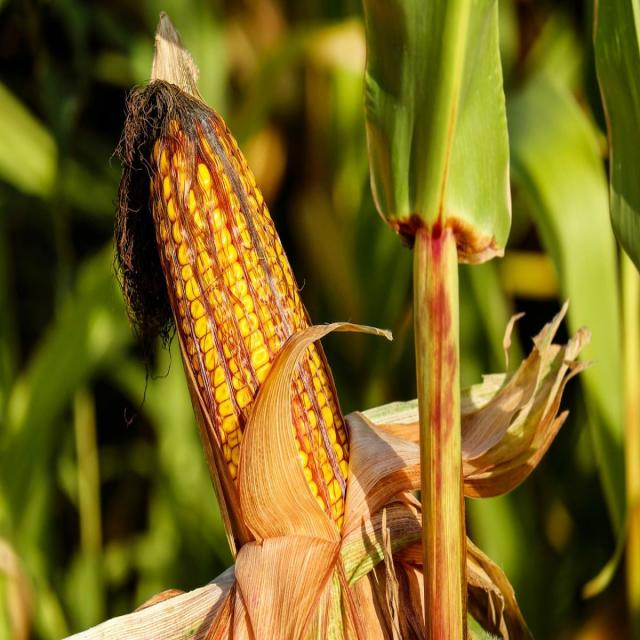corn: (110, 86, 390, 640)
